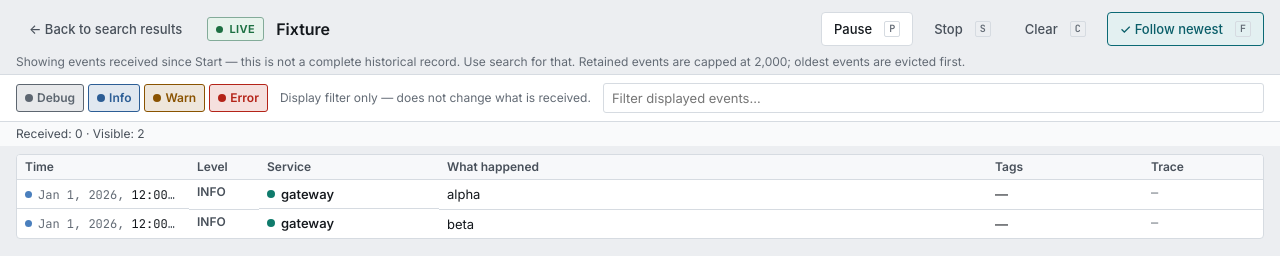
Scenario: LiveTailPanel › text filtering (Legacy Remediation Slice 5) › the counts line reflects filtered vs retained counts distinctly
In the field with placeholder "Filter displayed events…": (933, 98) [603,83,1264,113], type "alpha"
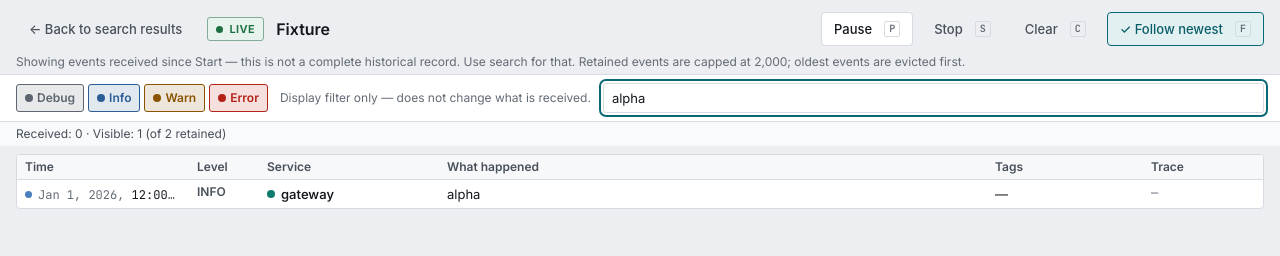
Check: the text "Received: 0 · Visible: 1 (of 2 retained)" is shown, box [0,122,1279,146]
